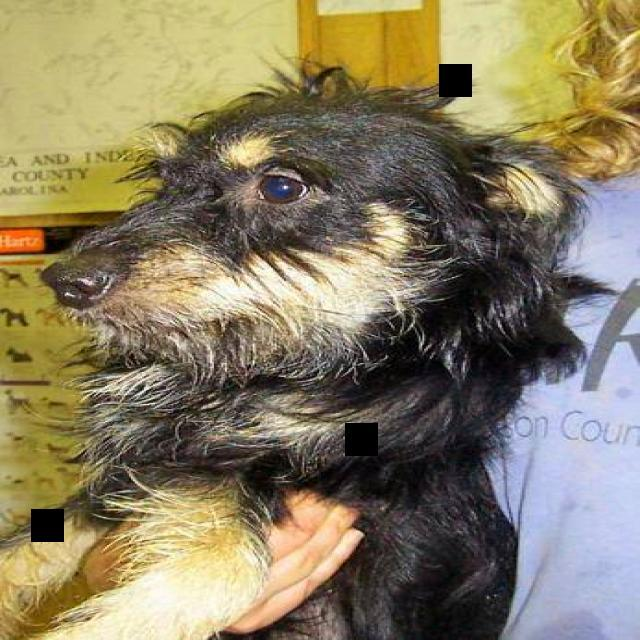adult_dog: (1, 56, 608, 640)
